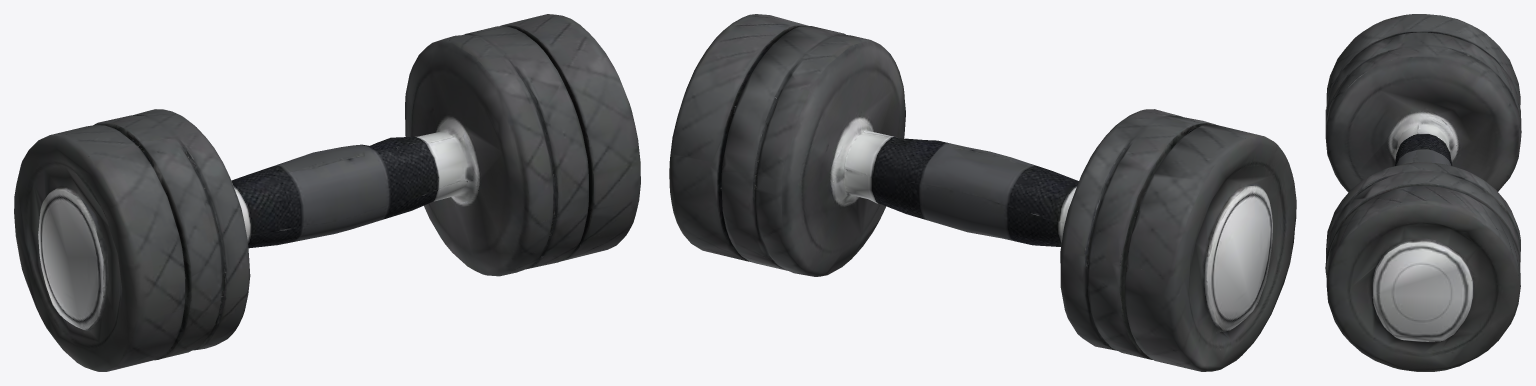
The model's file is halter2.glb.
3 renders of one model, left to right at view 1: azimuth 30°, elevation 25°; view 2: azimuth 150°, elevation 25°; view 3: azimuth 270°, elevation 25°, orthographic. The views are drawn at different scales.
Size of the model in its own units: 0.3396 by 0.1381 by 0.1437.
1 material, 1 textured.
